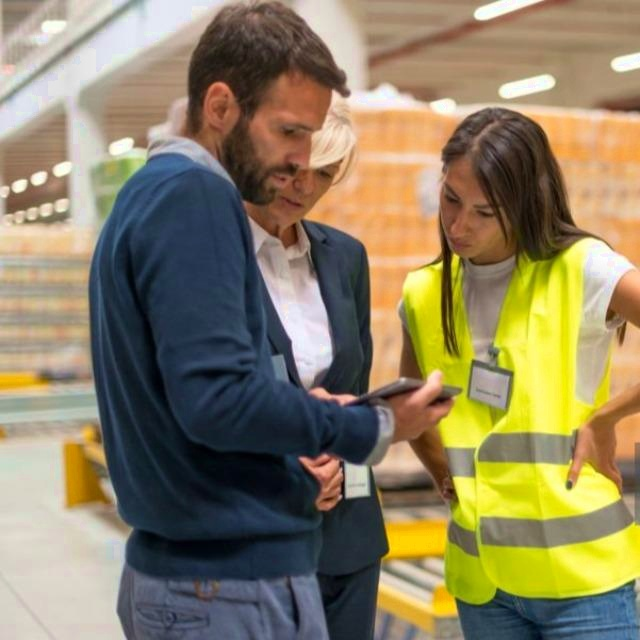Con_Chaleco: (402, 239, 637, 582)
Sin_Casco_Mascarrilla: (189, 3, 339, 207), (439, 107, 552, 261)
